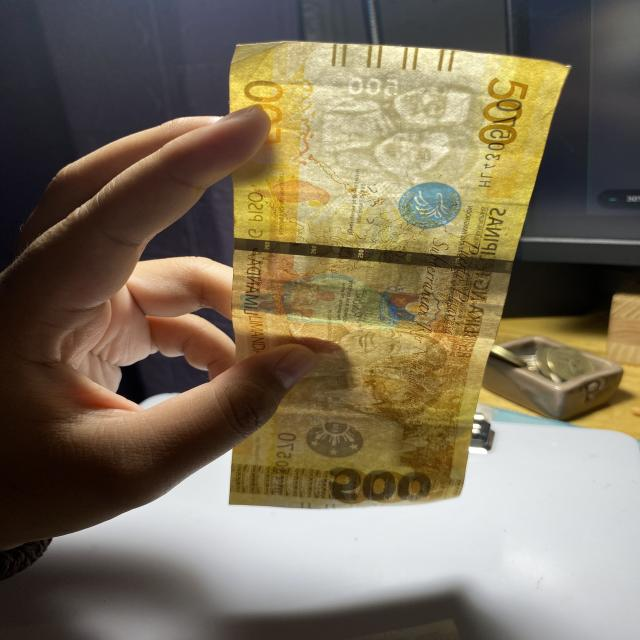500_big_parrot: (233, 270, 405, 340)
500_parrot_watermark: (258, 178, 339, 218)
value_watermark: (342, 70, 402, 101)
watermark: (331, 72, 470, 189)
